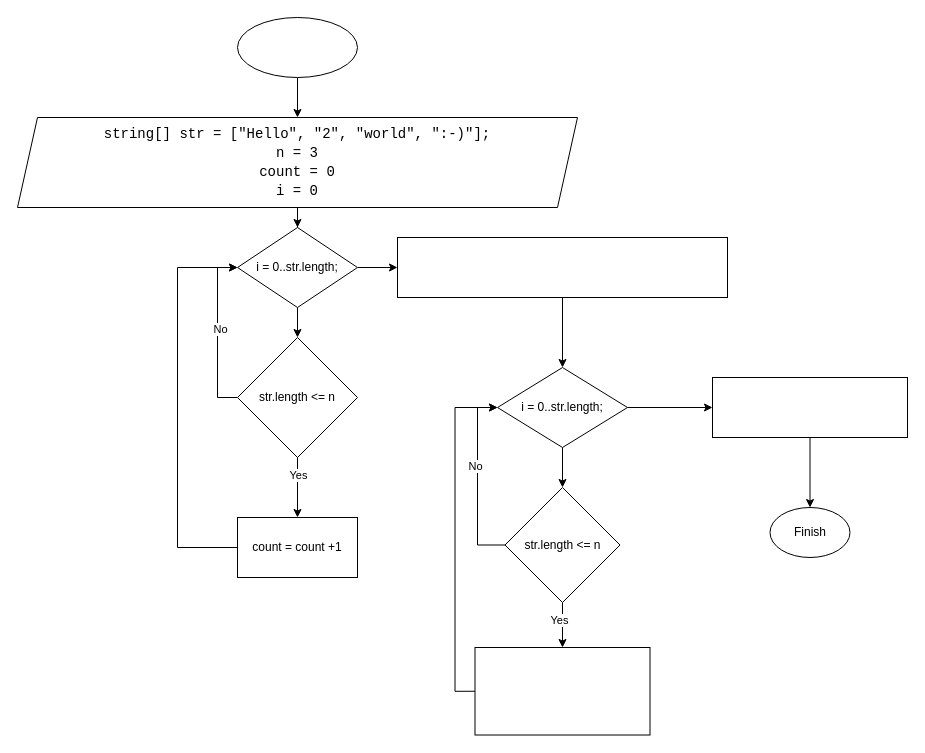
The diagram is 925 pixels wide and 753 high, and some of its shapes have lost their labels. Here are the shapes that lost their labels. From the top down, the centre of each, then its label:
the point at 297,47: Start
the point at 562,267: string[] result = new string[count]; j = 0 i = 0
the point at 810,407: Print ( result )
the point at 562,690: result[j]=array[i] j = j + 1
